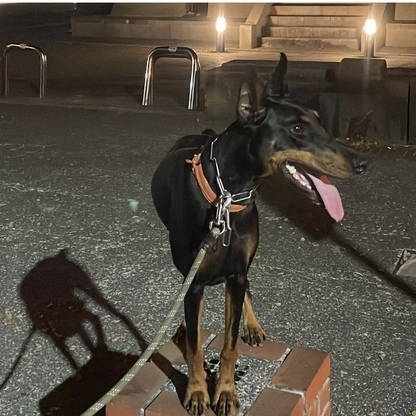doberman: (149, 54, 375, 416)
